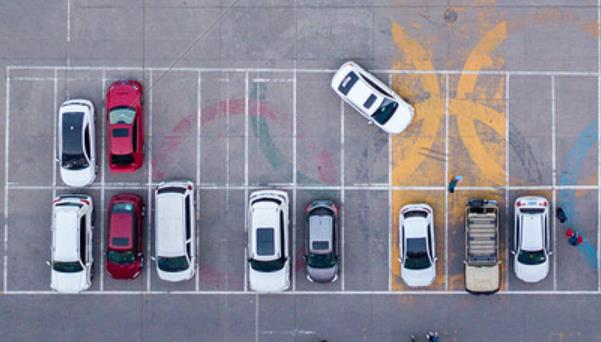car: (324, 59, 415, 136), (241, 186, 294, 295), (46, 192, 97, 296), (150, 181, 199, 283), (510, 194, 555, 285), (54, 97, 98, 188), (461, 199, 503, 294), (104, 79, 145, 175), (103, 191, 145, 283), (301, 198, 343, 284), (396, 204, 438, 288)
